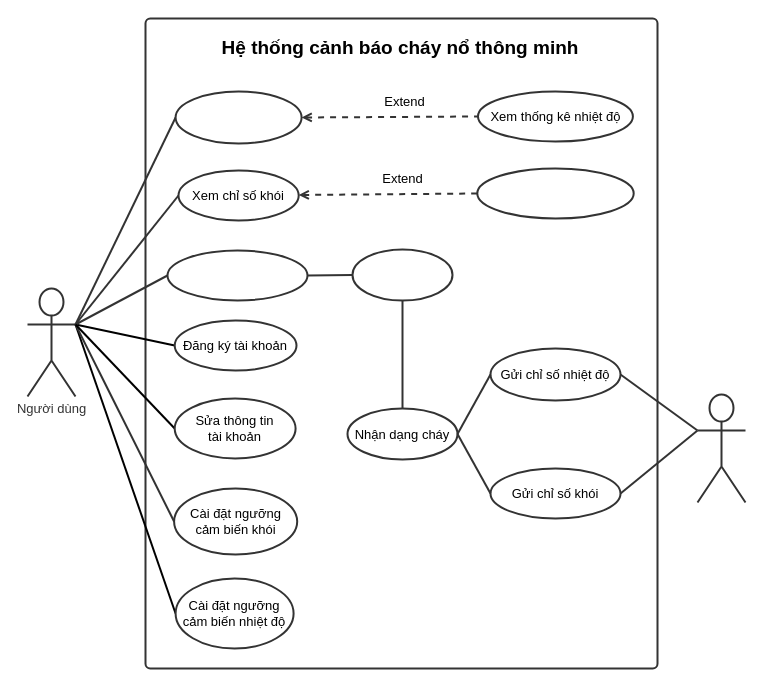
Some shapes in this 764 by 686 pixel diagram are drawn without their labels. Here are the shapes that lost their labels. From the top down, the centre of each, then its label:
At pixel 238 117: "Xem chỉ số nhiệt độ".
At pixel 555 193: "Xem thống kê khói".
At pixel 237 275: "Nhận thông báo cháy".
At pixel 402 274: "Báo cháy".
At pixel 721 448: "Sensor".
